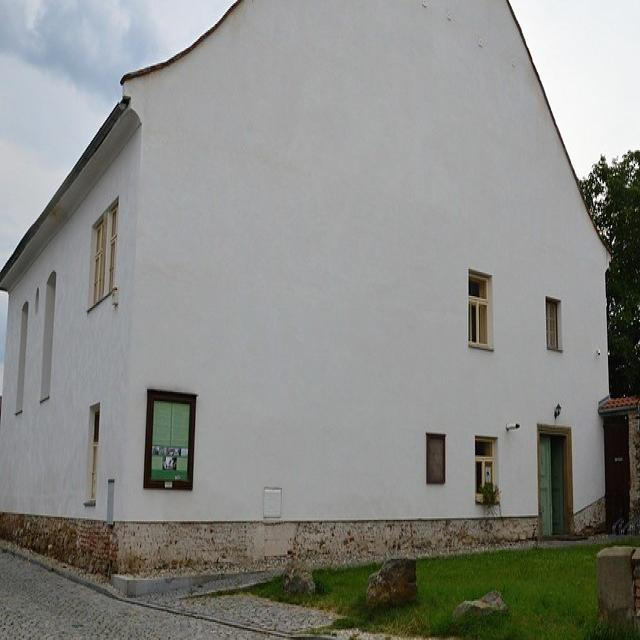building: (1, 8, 615, 599)
